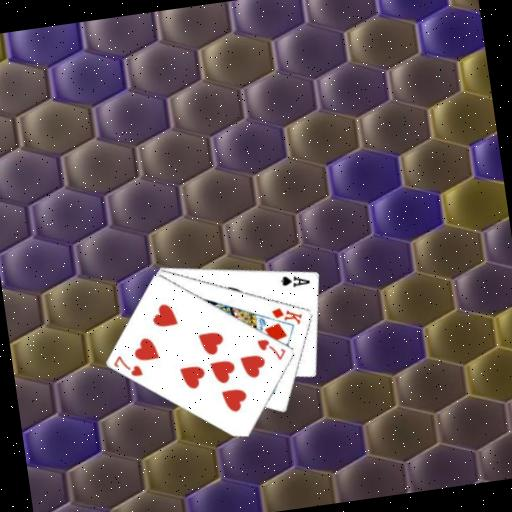7H: (109, 349, 145, 381), (254, 333, 289, 365)
AS: (277, 270, 313, 291)
KD: (268, 302, 305, 330)
